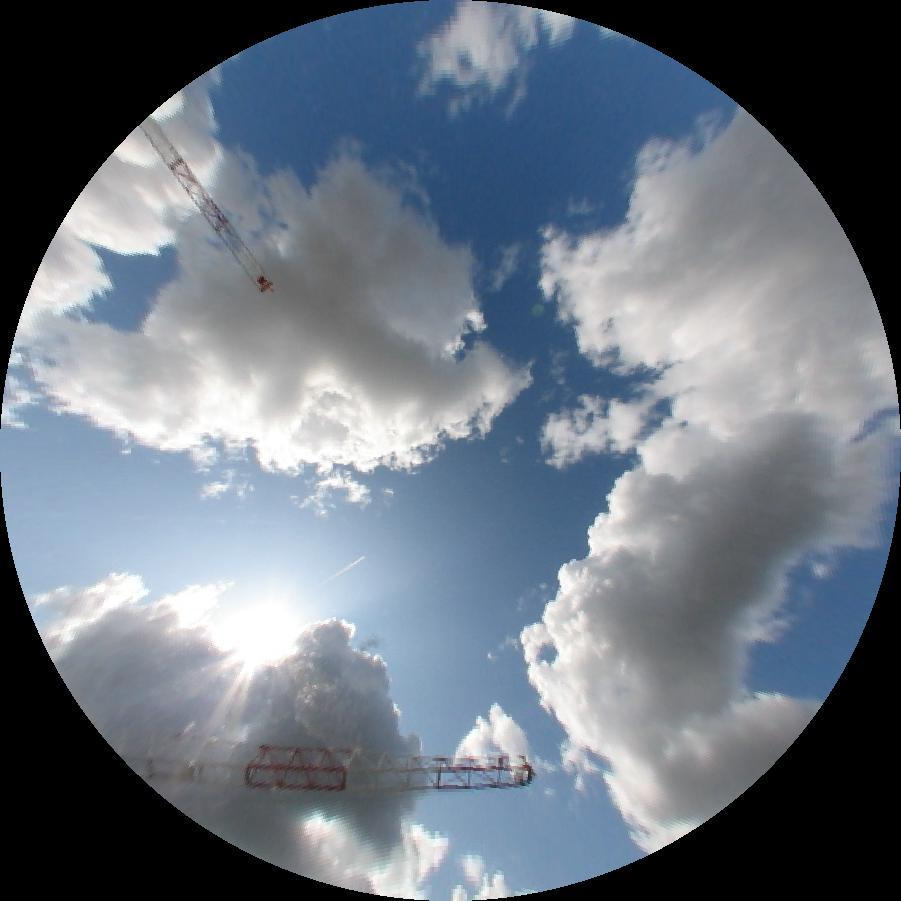contrail young: (315, 555, 367, 590)
sun: (209, 592, 307, 676)
